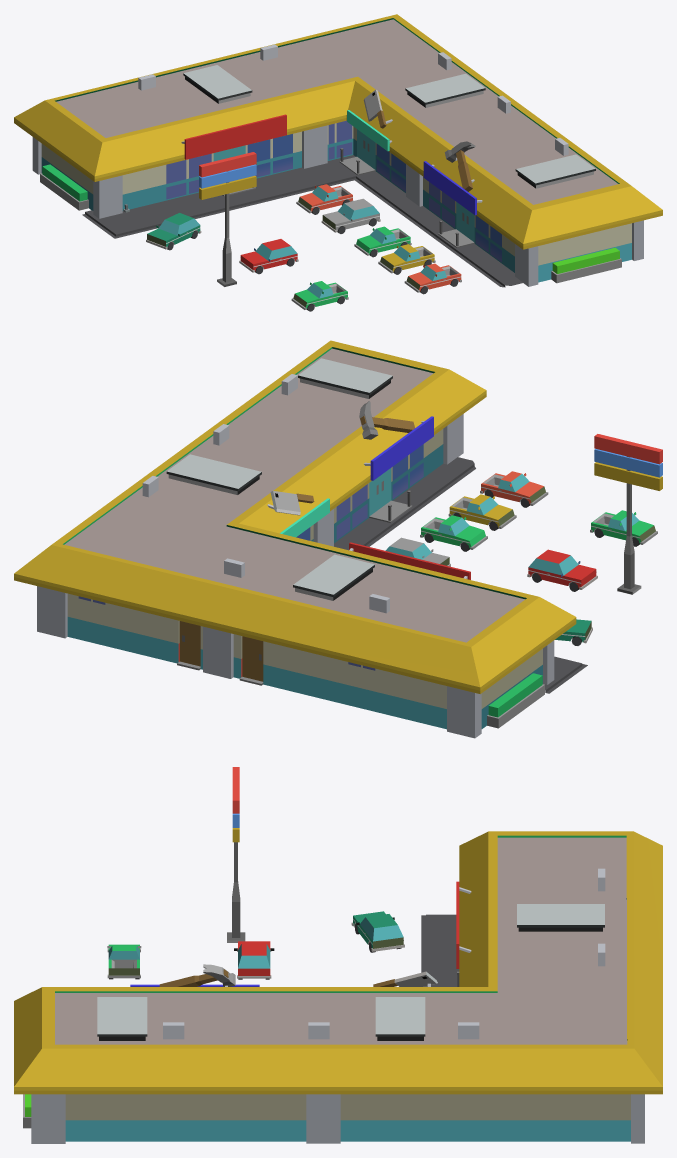
Rendered from city_18.FBX.
3 renders of one model, top to bottom at view 1: azimuth 30°, elevation 25°; view 2: azimuth 150°, elevation 25°; view 3: azimuth 270°, elevation 25°, orthographic. The views are drawn at different scales.
Parts seen in each view (by area): view 1: city_42; view 2: city_42; view 3: city_42.
Boxes of the visible parts, x1=… form: city_42: x1=14, y1=14, x2=662, y2=311; city_42: x1=14, y1=340, x2=662, y2=738; city_42: x1=14, y1=767, x2=662, y2=1143.
Bounding box in the file's own units: 9031 × 2718 × 10266.
